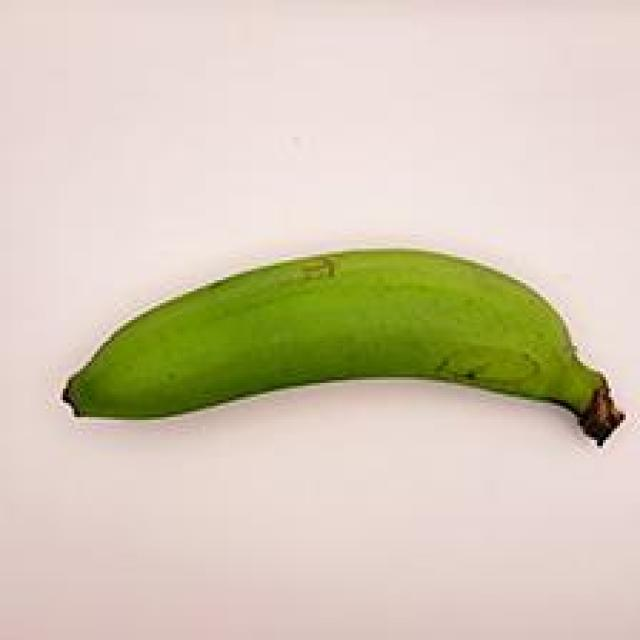Raw: (28, 228, 638, 472)
